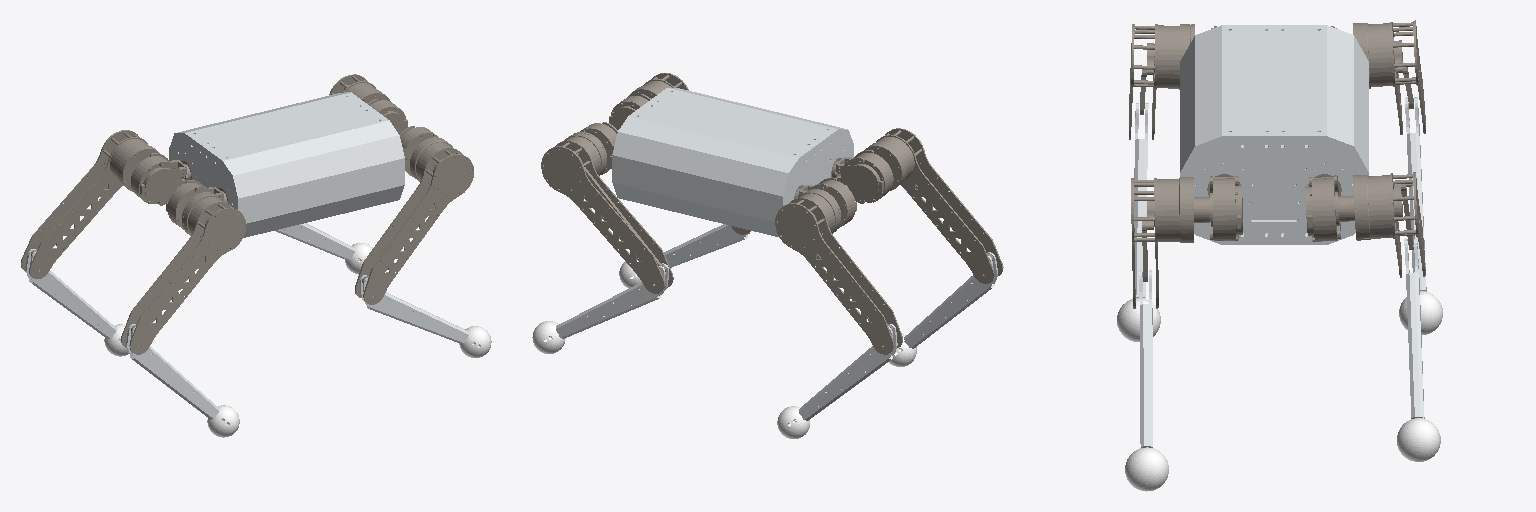
robot.urdf — quadrobot_byang:
<?xml version="1.0" encoding="utf-8"?>
<!-- This URDF was automatically created by SolidWorks to URDF Exporter! Originally created by Stephen Brawner (brawner@gmail.com) 
     Commit Version: 1.6.0-4-g7f85cfe  Build Version: 1.6.7995.38578
     For more information, please see http://wiki.ros.org/sw_urdf_exporter -->
<robot
  name="quadrobot_byang">
  <link
    name="base_link">
    <inertial>
      <origin
        xyz="0.0015516738799712 4.95387812441545E-07 0.057106638003801"
        rpy="0 0 0" />
      <mass
        value="7.25380697537914" />
      <inertia
        ixx="0.035"
        ixy="0.000"
        ixz="0.001"
        iyy="0.065"
        iyz="0.000"
        izz="0.072" />
    </inertial>
    <visual>
      <origin
        xyz="0 0 0"
        rpy="0 0 0" />
      <geometry>
        <mesh
          filename="../meshes/base_link.STL" />
      </geometry>
      <material
        name="">
        <color
          rgba="0.898039215686275 0.917647058823529 0.929411764705882 1" />
      </material>
    </visual>
    <collision>
      <origin
        xyz="0 0 0"
        rpy="0 0 0" />
      <geometry>
        <mesh
          filename="../meshes/base_link.STL" />
      </geometry>
    </collision>
  </link>
  <link
    name="LF_roll_link">
    <inertial>
      <origin
        xyz="-0.0183487527909973 -3.69607898733984E-05 0.000110472133127904"
        rpy="0 0 0" />
      <mass
        value="0.441" />
      <inertia
        ixx="0.000"
        ixy="0.000"
        ixz="0.000"
        iyy="0.000"
        iyz="0.000"
        izz="0.000" />
    </inertial>
    <visual>
      <origin
        xyz="0 0 0"
        rpy="0 0 0" />
      <geometry>
        <mesh
          filename="../meshes/LF_roll_link.STL" />
      </geometry>
      <material
        name="">
        <color
          rgba="0.650980392156863 0.619607843137255 0.588235294117647 1" />
      </material>
    </visual>
    <collision>
      <origin
        xyz="0 0 0"
        rpy="0 0 0" />
      <geometry>
        <mesh
          filename="../meshes/LF_roll_link.STL" />
      </geometry>
    </collision>
  </link>
  <joint
    name="LF_roll_joint"
    type="revolute">
    <origin
      xyz="0.1635 0.062501 0.076409"
      rpy="0 0 0" />
    <parent
      link="base_link" />
    <child
      link="LF_roll_link" />
    <axis
      xyz="-1 0 0" />
    <limit
      lower="-3.14"
      upper="3.14"
      effort="15"
      velocity="25" />
  </joint>
  <link
    name="LF_pitch_link">
    <inertial>
      <origin
        xyz="-0.00676434535295402 0.0253303462786025 -0.00400806530848779"
        rpy="0 0 0" />
      <mass
        value="1.206" />
      <inertia
        ixx="0.004"
        ixy="0.001"
        ixz="-0.002"
        iyy="0.005"
        iyz="0.001"
        izz="0.005" />
    </inertial>
    <visual>
      <origin
        xyz="0 0 0"
        rpy="0 0 0" />
      <geometry>
        <mesh
          filename="../meshes/LF_pitch_link.STL" />
      </geometry>
      <material
        name="">
        <color
          rgba="0.650980392156863 0.619607843137255 0.588235294117647 1" />
      </material>
    </visual>
    <collision>
      <origin
        xyz="0 0 0"
        rpy="0 0 0" />
      <geometry>
        <mesh
          filename="../meshes/LF_pitch_link.STL" />
      </geometry>
    </collision>
  </link>
  <joint
    name="LF_pitch_joint"
    type="revolute">
    <origin
      xyz="0.060689 0.013964 0.0010276"
      rpy="0 0 0" />
    <parent
      link="LF_roll_link" />
    <child
      link="LF_pitch_link" />
    <axis
      xyz="0 0.99841 0.056281" />
    <limit
      lower="-3.14"
      upper="3.14"
      effort="15"
      velocity="25" />
  </joint>
  <link
    name="LF_calf_link">
    <inertial>
      <origin
        xyz="0.0825920816668721 -0.00451512945449845 -0.0620465145915691"
        rpy="0 0 0" />
      <mass
        value="0.171491028783328" />
      <inertia
        ixx="0.000"
        ixy="0.000"
        ixz="0.000"
        iyy="0.001"
        iyz="0.000"
        izz="0.001" />
    </inertial>
    <visual>
      <origin
        xyz="0 0 0"
        rpy="0 0 0" />
      <geometry>
        <mesh
          filename="../meshes/LF_calf_link.STL" />
      </geometry>
      <material
        name="">
        <color
          rgba="0.898039215686275 0.917647058823529 0.929411764705882 1" />
      </material>
    </visual>
    <collision>
      <origin
        xyz="0 0 0"
        rpy="0 0 0" />
      <geometry>
        <mesh
          filename="../meshes/LF_calf_link.STL" />
      </geometry>
    </collision>
  </link>
  <joint
    name="LF_calf_joint"
    type="revolute">
    <origin
      xyz="-0.18097 0.10313 -0.15939"
      rpy="0 0 0" />
    <parent
      link="LF_pitch_link" />
    <child
      link="LF_calf_link" />
    <axis
      xyz="0 -0.99841 -0.056281" />
    <limit
      lower="-3.14"
      upper="3.14"
      effort="15"
      velocity="25" />
  </joint>
  <link
    name="LF_feet_link">
    <inertial>
      <origin
        xyz="-0.000145039211538397 -5.51028697592937E-06 9.78034142299355E-05"
        rpy="0 0 0" />
      <mass
        value="0.0792771775752281" />
      <inertia
        ixx="0.000"
        ixy="0.000"
        ixz="0.000"
        iyy="0.000"
        iyz="0.000"
        izz="0.000" />
    </inertial>
    <visual>
      <origin
        xyz="0 0 0"
        rpy="0 0 0" />
      <geometry>
        <mesh
          filename="../meshes/LF_feet_link.STL" />
      </geometry>
      <material
        name="">
        <color
          rgba="1 1 1 1" />
      </material>
    </visual>
    <collision>
      <origin
        xyz="0 0 0"
        rpy="0 0 0" />
      <geometry>
        <mesh
          filename="../meshes/LF_feet_link.STL" />
      </geometry>
    </collision>
  </link>
  <joint
    name="LF_feet_joint"
    type="fixed" dont_collapse="true">
    <origin
      xyz="0.20668 0.00038989 -0.14728"
      rpy="0 0 0" />
    <parent
      link="LF_calf_link" />
    <child
      link="LF_feet_link" />
    <axis
      xyz="0 0 0" />
  </joint>
  <link
    name="RF_roll_link">
    <inertial>
      <origin
        xyz="-0.0183487527909973 -3.69855884621434E-05 0.000110471324879042"
        rpy="0 0 0" />
      <mass
        value="0.441" />
      <inertia
        ixx="0.000"
        ixy="0.000"
        ixz="0.000"
        iyy="0.000"
        iyz="0.000"
        izz="0.000" />
    </inertial>
    <visual>
      <origin
        xyz="0 0 0"
        rpy="0 0 0" />
      <geometry>
        <mesh
          filename="../meshes/RF_roll_link.STL" />
      </geometry>
      <material
        name="">
        <color
          rgba="0.650980392156863 0.619607843137255 0.588235294117647 1" />
      </material>
    </visual>
    <collision>
      <origin
        xyz="0 0 0"
        rpy="0 0 0" />
      <geometry>
        <mesh
          filename="../meshes/RF_roll_link.STL" />
      </geometry>
    </collision>
  </link>
  <joint
    name="RF_roll_joint"
    type="revolute">
    <origin
      xyz="0.1635 -0.062499 0.076409"
      rpy="0 0 0" />
    <parent
      link="base_link" />
    <child
      link="RF_roll_link" />
    <axis
      xyz="-1 0 0" />
    <limit
      lower="-3.14"
      upper="3.14"
      effort="15"
      velocity="25" />
  </joint>
  <link
    name="RF_pitch_link">
    <inertial>
      <origin
        xyz="-0.00570148495870638 -0.0249947939893914 -0.00678258648072765"
        rpy="0 0 0" />
      <mass
        value="1.206" />
      <inertia
        ixx="0.005"
        ixy="-0.001"
        ixz="-0.002"
        iyy="0.005"
        iyz="-0.001"
        izz="0.004" />
    </inertial>
    <visual>
      <origin
        xyz="0 0 0"
        rpy="0 0 0" />
      <geometry>
        <mesh
          filename="../meshes/RF_pitch_link.STL" />
      </geometry>
      <material
        name="">
        <color
          rgba="0.650980392156863 0.619607843137255 0.588235294117647 1" />
      </material>
    </visual>
    <collision>
      <origin
        xyz="0 0 0"
        rpy="0 0 0" />
      <geometry>
        <mesh
          filename="../meshes/RF_pitch_link.STL" />
      </geometry>
    </collision>
  </link>
  <joint
    name="RF_pitch_joint"
    type="revolute">
    <origin
      xyz="0.060689 -0.014002 9.3015E-05"
      rpy="0 0 0" />
    <parent
      link="RF_roll_link" />
    <child
      link="RF_pitch_link" />
    <axis
      xyz="0 -0.99994 -0.010498" />
    <limit
      lower="-3.14"
      upper="3.14"
      effort="15"
      velocity="25" />
  </joint>
  <link
    name="RF_calf_link">
    <inertial>
      <origin
        xyz="0.0840556345513243 0.00862612737935139 -0.0595973870873017"
        rpy="0 0 0" />
      <mass
        value="0.171491028783329" />
      <inertia
        ixx="0.000"
        ixy="0.000"
        ixz="0.000"
        iyy="0.001"
        iyz="0.000"
        izz="0.001" />
    </inertial>
    <visual>
      <origin
        xyz="0 0 0"
        rpy="0 0 0" />
      <geometry>
        <mesh
          filename="../meshes/RF_calf_link.STL" />
      </geometry>
      <material
        name="">
        <color
          rgba="0.898039215686275 0.917647058823529 0.929411764705882 1" />
      </material>
    </visual>
    <collision>
      <origin
        xyz="0 0 0"
        rpy="0 0 0" />
      <geometry>
        <mesh
          filename="../meshes/RF_calf_link.STL" />
      </geometry>
    </collision>
  </link>
  <joint
    name="RF_calf_joint"
    type="revolute">
    <origin
      xyz="-0.15509 -0.092006 -0.19045"
      rpy="0 0 0" />
    <parent
      link="RF_pitch_link" />
    <child
      link="RF_calf_link" />
    <axis
      xyz="0 -0.99994 -0.010498" />
    <limit
      lower="-3.14"
      upper="3.14"
      effort="15"
      velocity="25" />
  </joint>
  <link
    name="RF_feet_link">
    <inertial>
      <origin
        xyz="-0.000147359016672538 -9.88453395217581E-07 9.44276820717405E-05"
        rpy="0 0 0" />
      <mass
        value="0.0792771775752281" />
      <inertia
        ixx="0.000"
        ixy="0.000"
        ixz="0.000"
        iyy="0.000"
        iyz="0.000"
        izz="0.000" />
    </inertial>
    <visual>
      <origin
        xyz="0 0 0"
        rpy="0 0 0" />
      <geometry>
        <mesh
          filename="../meshes/RF_feet_link.STL" />
      </geometry>
      <material
        name="">
        <color
          rgba="1 1 1 1" />
      </material>
    </visual>
    <collision>
      <origin
        xyz="0 0 0"
        rpy="0 0 0" />
      <geometry>
        <mesh
          filename="../meshes/RF_feet_link.STL" />
      </geometry>
    </collision>
  </link>
  <joint
    name="RF_feet_joint"
    type="fixed" dont_collapse="true">
    <origin
      xyz="0.21016 0.0093908 -0.14196"
      rpy="0 0 0" />
    <parent
      link="RF_calf_link" />
    <child
      link="RF_feet_link" />
    <axis
      xyz="0 0 0" />
  </joint>
  <link
    name="LR_roll_link">
    <inertial>
      <origin
        xyz="0.0183487527909972 4.6832464948264E-05 -0.000107787447680652"
        rpy="0 0 0" />
      <mass
        value="0.441" />
      <inertia
        ixx="0.000"
        ixy="0.000"
        ixz="0.000"
        iyy="0.000"
        iyz="0.000"
        izz="0.000" />
    </inertial>
    <visual>
      <origin
        xyz="0 0 0"
        rpy="0 0 0" />
      <geometry>
        <mesh
          filename="../meshes/LR_roll_link.STL" />
      </geometry>
      <material
        name="">
        <color
          rgba="0.650980392156863 0.619607843137255 0.588235294117647 1" />
      </material>
    </visual>
    <collision>
      <origin
        xyz="0 0 0"
        rpy="0 0 0" />
      <geometry>
        <mesh
          filename="../meshes/LR_roll_link.STL" />
      </geometry>
    </collision>
  </link>
  <joint
    name="LR_roll_joint"
    type="revolute">
    <origin
      xyz="-0.1635 0.0625 0.076409"
      rpy="0 0 0" />
    <parent
      link="base_link" />
    <child
      link="LR_roll_link" />
    <axis
      xyz="-1 0 0" />
    <limit
      lower="-3.14"
      upper="3.14"
      effort="15"
      velocity="25" />
  </joint>
  <link
    name="LR_pitch_link">
    <inertial>
      <origin
        xyz="-0.00636969800270282 0.025362957062064 -0.00448751208482067"
        rpy="0 0 0" />
      <mass
        value="1.206" />
      <inertia
        ixx="0.004"
        ixy="0.001"
        ixz="-0.002"
        iyy="0.005"
        iyz="0.001"
        izz="0.005" />
    </inertial>
    <visual>
      <origin
        xyz="0 0 0"
        rpy="0 0 0" />
      <geometry>
        <mesh
          filename="../meshes/LR_pitch_link.STL" />
      </geometry>
      <material
        name="">
        <color
          rgba="0.650980392156863 0.619607843137255 0.588235294117647 1" />
      </material>
    </visual>
    <collision>
      <origin
        xyz="0 0 0"
        rpy="0 0 0" />
      <geometry>
        <mesh
          filename="../meshes/LR_pitch_link.STL" />
      </geometry>
    </collision>
  </link>
  <joint
    name="LR_pitch_joint"
    type="revolute">
    <origin
      xyz="-0.060689 0.013963 0.0010407"
      rpy="0 0 0" />
    <parent
      link="LR_roll_link" />
    <child
      link="LR_pitch_link" />
    <axis
      xyz="0 0.99836 0.057221" />
    <limit
      lower="-3.14"
      upper="3.14"
      effort="15"
      velocity="25" />
  </joint>
  <link
    name="LR_calf_link">
    <inertial>
      <origin
        xyz="0.0695021352965257 -0.00363020215767429 -0.0764708066202776"
        rpy="0 0 0" />
      <mass
        value="0.171491028783328" />
      <inertia
        ixx="0.001"
        ixy="0.000"
        ixz="0.000"
        iyy="0.001"
        iyz="0.000"
        izz="0.000" />
    </inertial>
    <visual>
      <origin
        xyz="0 0 0"
        rpy="0 0 0" />
      <geometry>
        <mesh
          filename="../meshes/LR_calf_link.STL" />
      </geometry>
      <material
        name="">
        <color
          rgba="0.898039215686275 0.917647058823529 0.929411764705882 1" />
      </material>
    </visual>
    <collision>
      <origin
        xyz="0 0 0"
        rpy="0 0 0" />
      <geometry>
        <mesh
          filename="../meshes/LR_calf_link.STL" />
      </geometry>
    </collision>
  </link>
  <joint
    name="LR_calf_joint"
    type="revolute">
    <origin
      xyz="-0.17233 0.1038 -0.16828"
      rpy="0 0 0" />
    <parent
      link="LR_pitch_link" />
    <child
      link="LR_calf_link" />
    <axis
      xyz="0 -0.99836 -0.057221" />
    <limit
      lower="-3.14"
      upper="3.14"
      effort="15"
      velocity="25" />
  </joint>
  <link
    name="LR_feet_link">
    <inertial>
      <origin
        xyz="-0.000124006932325393 -7.06444025791453E-06 0.000123307008655871"
        rpy="0 0 0" />
      <mass
        value="0.0792771775752281" />
      <inertia
        ixx="0.000"
        ixy="0.000"
        ixz="0.000"
        iyy="0.000"
        iyz="0.000"
        izz="0.000" />
    </inertial>
    <visual>
      <origin
        xyz="0 0 0"
        rpy="0 0 0" />
      <geometry>
        <mesh
          filename="../meshes/LR_feet_link.STL" />
      </geometry>
      <material
        name="">
        <color
          rgba="1 1 1 1" />
      </material>
    </visual>
    <collision>
      <origin
        xyz="0 0 0"
        rpy="0 0 0" />
      <geometry>
        <mesh
          filename="../meshes/LR_feet_link.STL" />
      </geometry>
    </collision>
  </link>
  <joint
    name="LR_feet_joint"
    type="fixed" dont_collapse="true">
    <origin
      xyz="0.1753 0.0026043 -0.1835"
      rpy="0 0 0" />
    <parent
      link="LR_calf_link" />
    <child
      link="LR_feet_link" />
    <axis
      xyz="0 0 0" />
  </joint>
  <link
    name="RR_roll_link">
    <inertial>
      <origin
        xyz="0.0183487527909971 6.63814241562838E-05 -9.68970490902179E-05"
        rpy="0 0 0" />
      <mass
        value="0.441" />
      <inertia
        ixx="0.000"
        ixy="0.000"
        ixz="0.000"
        iyy="0.000"
        iyz="0.000"
        izz="0.000" />
    </inertial>
    <visual>
      <origin
        xyz="0 0 0"
        rpy="0 0 0" />
      <geometry>
        <mesh
          filename="../meshes/RR_roll_link.STL" />
      </geometry>
      <material
        name="">
        <color
          rgba="0.650980392156863 0.619607843137255 0.588235294117647 1" />
      </material>
    </visual>
    <collision>
      <origin
        xyz="0 0 0"
        rpy="0 0 0" />
      <geometry>
        <mesh
          filename="../meshes/RR_roll_link.STL" />
      </geometry>
    </collision>
  </link>
  <joint
    name="RR_roll_joint"
    type="revolute">
    <origin
      xyz="-0.1635 -0.0625 0.076409"
      rpy="0 0 0" />
    <parent
      link="base_link" />
    <child
      link="RR_roll_link" />
    <axis
      xyz="-1 0 0" />
    <limit
      lower="-3.14"
      upper="3.14"
      effort="15"
      velocity="25" />
  </joint>
  <link
    name="RR_pitch_link">
    <inertial>
      <origin
        xyz="-0.00627004626411037 -0.0251764932509748 -0.00553818347548103"
        rpy="0 0 0" />
      <mass
        value="1.206" />
      <inertia
        ixx="0.004"
        ixy="-0.001"
        ixz="-0.002"
        iyy="0.005"
        iyz="-0.001"
        izz="0.005" />
    </inertial>
    <visual>
      <origin
        xyz="0 0 0"
        rpy="0 0 0" />
      <geometry>
        <mesh
          filename="../meshes/RR_pitch_link.STL" />
      </geometry>
      <material
        name="">
        <color
          rgba="0.650980392156863 0.619607843137255 0.588235294117647 1" />
      </material>
    </visual>
    <collision>
      <origin
        xyz="0 0 0"
        rpy="0 0 0" />
      <geometry>
        <mesh
          filename="../meshes/RR_pitch_link.STL" />
      </geometry>
    </collision>
  </link>
  <joint
    name="RR_pitch_joint"
    type="revolute">
    <origin
      xyz="-0.060689 -0.013993 0.0005083"
      rpy="0 0 0" />
    <parent
      link="RR_roll_link" />
    <child
      link="RR_pitch_link" />
    <axis
      xyz="0 -0.99982 0.019168" />
    <limit
      lower="-3.14"
      upper="3.14"
      effort="15"
      velocity="25" />
  </joint>
  <link
    name="RR_calf_link">
    <inertial>
      <origin
        xyz="0.0681465652693831 0.00651583331634159 -0.0774932118266061"
        rpy="0 0 0" />
      <mass
        value="0.171491028783329" />
      <inertia
        ixx="0.001"
        ixy="0.000"
        ixz="0.000"
        iyy="0.001"
        iyz="0.000"
        izz="0.000" />
    </inertial>
    <visual>
      <origin
        xyz="0 0 0"
        rpy="0 0 0" />
      <geometry>
        <mesh
          filename="../meshes/RR_calf_link.STL" />
      </geometry>
      <material
        name="">
        <color
          rgba="0.898039215686275 0.917647058823529 0.929411764705882 1" />
      </material>
    </visual>
    <collision>
      <origin
        xyz="0 0 0"
        rpy="0 0 0" />
      <geometry>
        <mesh
          filename="../meshes/RR_calf_link.STL" />
      </geometry>
    </collision>
  </link>
  <joint
    name="RR_calf_joint"
    type="revolute">
    <origin
      xyz="-0.1698 -0.097364 -0.17458"
      rpy="0 0 0" />
    <parent
      link="RR_pitch_link" />
    <child
      link="RR_calf_link" />
    <axis
      xyz="0 -0.99982 0.019168" />
    <limit
      lower="-3.14"
      upper="3.14"
      effort="15"
      velocity="25" />
  </joint>
  <link
    name="RR_feet_link">
    <inertial>
      <origin
        xyz="-0.000121805650752316 2.4119046703186E-06 0.000125657511266475"
        rpy="0 0 0" />
      <mass
        value="0.0792771775752282" />
      <inertia
        ixx="0.000"
        ixy="0.000"
        ixz="0.000"
        iyy="0.000"
        iyz="0.000"
        izz="0.000" />
    </inertial>
    <visual>
      <origin
        xyz="0 0 0"
        rpy="0 0 0" />
      <geometry>
        <mesh
          filename="../meshes/RR_feet_link.STL" />
      </geometry>
      <material
        name="">
        <color
          rgba="1 1 1 1" />
      </material>
    </visual>
    <collision>
      <origin
        xyz="0 0 0"
        rpy="0 0 0" />
      <geometry>
        <mesh
          filename="../meshes/RR_feet_link.STL" />
      </geometry>
    </collision>
  </link>
  <joint
    name="RR_feet_joint"
    type="fixed" dont_collapse="true">
    <origin
      xyz="0.172031132401848 0.00452533645183884 -0.18653728247765"
      rpy="0 0 0" />
    <parent
      link="RR_calf_link" />
    <child
      link="RR_feet_link" />
    <axis
      xyz="0 0 0" />
  </joint>
</robot>

--- Render facts (derived) ---
The picture shows the robot from 3 angles, left to right: view 1: azimuth 30°, elevation 25°; view 2: azimuth 150°, elevation 25°; view 3: azimuth 270°, elevation 25°; orthographic projection.
Robot: quadrobot_byang — 17 links, 16 joints (12 revolute, 4 fixed); root link base_link; default pose: all joints at 0.
Visible links, largest first — view 1: base_link, RR_pitch_link, LR_pitch_link, RF_pitch_link, RR_calf_link, RF_calf_link, LR_calf_link, LF_pitch_link, LF_calf_link, RR_feet_link, RF_feet_link, LR_roll_link; view 2: base_link, LR_pitch_link, RR_pitch_link, LF_pitch_link, LR_calf_link, LF_calf_link, RR_calf_link, RF_calf_link, RF_pitch_link, LF_feet_link, LR_feet_link, RR_roll_link; view 3: base_link, LF_pitch_link, RF_pitch_link, LR_pitch_link, RR_pitch_link, LF_calf_link, RF_calf_link, RR_calf_link, LF_feet_link, RF_feet_link, LR_calf_link, RR_feet_link (+1 smaller).
Boxes of the visible links, <box> form: base_link: <box>169,92,404,237</box>; RR_pitch_link: <box>121,183,245,354</box>; LR_pitch_link: <box>21,130,178,278</box>; RF_pitch_link: <box>355,127,473,304</box>; RR_calf_link: <box>126,324,218,419</box>; RF_calf_link: <box>359,275,468,343</box>; LR_calf_link: <box>25,249,116,338</box>; LF_pitch_link: <box>329,74,407,134</box>; LF_calf_link: <box>275,223,354,260</box>; RR_feet_link: <box>207,405,239,437</box>; RF_feet_link: <box>459,326,491,357</box>; LR_roll_link: <box>150,153,191,205</box>; base_link: <box>612,88,853,237</box>; LR_pitch_link: <box>775,180,902,354</box>; RR_pitch_link: <box>844,128,1003,283</box>; LF_pitch_link: <box>541,123,673,293</box>; LR_calf_link: <box>799,324,897,420</box>; LF_calf_link: <box>556,263,668,338</box>; RR_calf_link: <box>904,252,997,348</box>; RF_calf_link: <box>664,224,750,267</box>; RF_pitch_link: <box>609,73,749,234</box>; LF_feet_link: <box>532,321,565,353</box>; LR_feet_link: <box>777,406,809,438</box>; RR_roll_link: <box>831,150,873,203</box>; base_link: <box>1180,25,1368,244</box>; LF_pitch_link: <box>1305,172,1425,277</box>; RF_pitch_link: <box>1131,177,1242,308</box>; LR_pitch_link: <box>1331,20,1425,134</box>; RR_pitch_link: <box>1129,24,1216,139</box>; LF_calf_link: <box>1404,239,1424,418</box>; RF_calf_link: <box>1139,270,1152,447</box>; RR_calf_link: <box>1134,103,1148,298</box>; LF_feet_link: <box>1397,418,1440,461</box>; RF_feet_link: <box>1125,447,1168,491</box>; LR_calf_link: <box>1405,97,1426,291</box>; RR_feet_link: <box>1117,298,1160,341</box>.
Bounding box of the posed robot: 0.7217 × 0.4071 × 0.461 m (x, y, z).
17 mesh visuals loaded from 17 distinct referenced files (17 binary STL).
